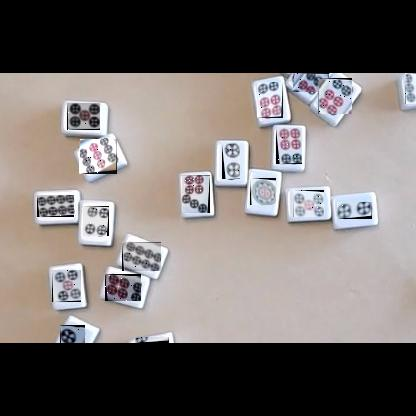1p: (250, 178, 276, 205)
2p: (222, 143, 240, 179), (337, 202, 372, 219), (60, 325, 85, 343)
3p: (134, 337, 169, 343)
4p: (83, 206, 109, 236)
5p: (52, 270, 81, 302), (67, 103, 100, 130), (293, 190, 324, 217)
6p: (318, 78, 352, 114), (105, 274, 141, 301), (276, 128, 302, 164), (257, 82, 283, 118)
7p: (182, 175, 210, 213)
8p: (122, 242, 161, 271), (37, 195, 74, 217)
9p: (79, 139, 117, 174), (293, 73, 329, 92), (405, 73, 416, 104)
